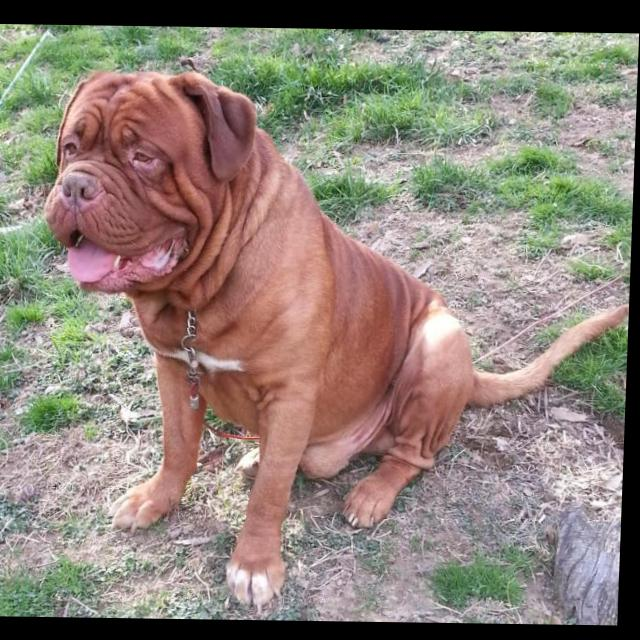dogue_de_bordeaux: (34, 67, 639, 619)
